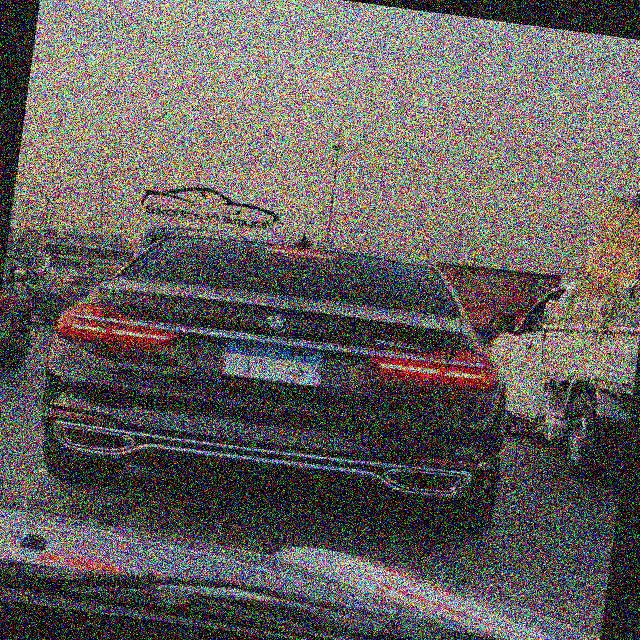License Plate: (217, 333, 329, 392)
